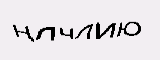И: (95, 18, 116, 38)
Л: (32, 23, 58, 42), (74, 18, 94, 41)
Ч: (57, 25, 78, 41)
Ю: (115, 17, 146, 37)
Ң: (9, 20, 37, 43)
